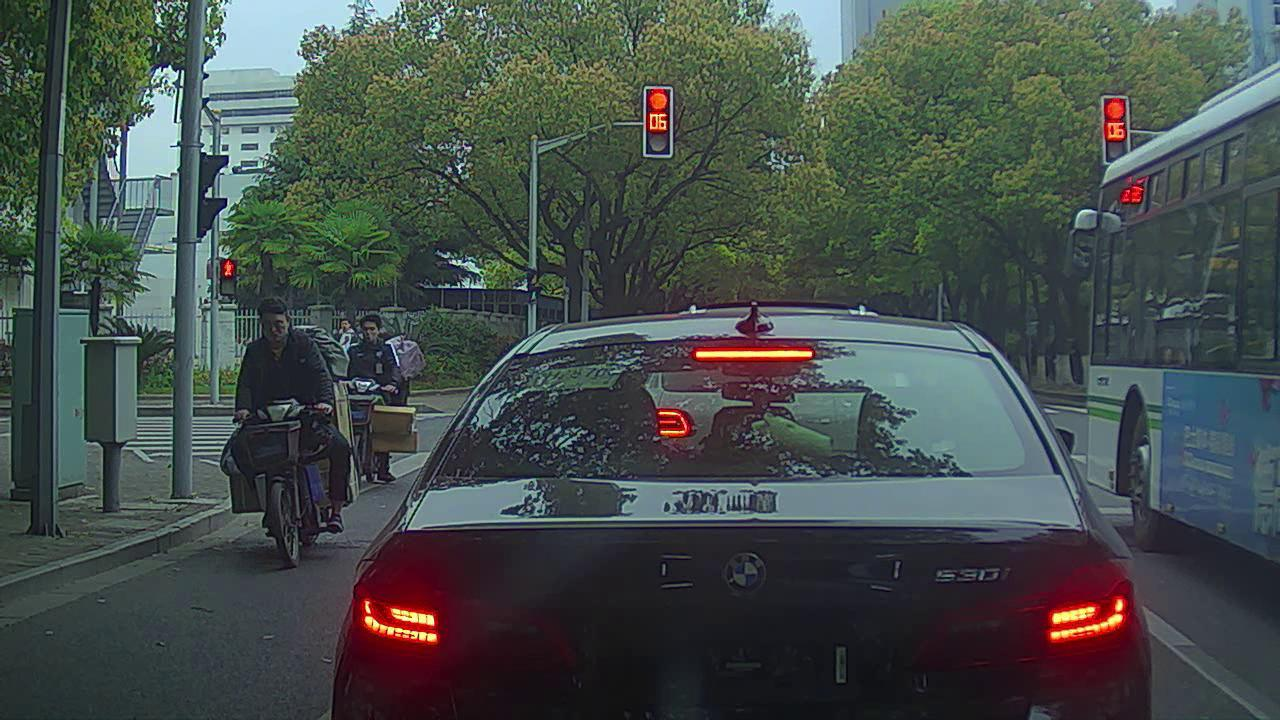traffic_light: (1102, 92, 1134, 161), (644, 88, 675, 156)
